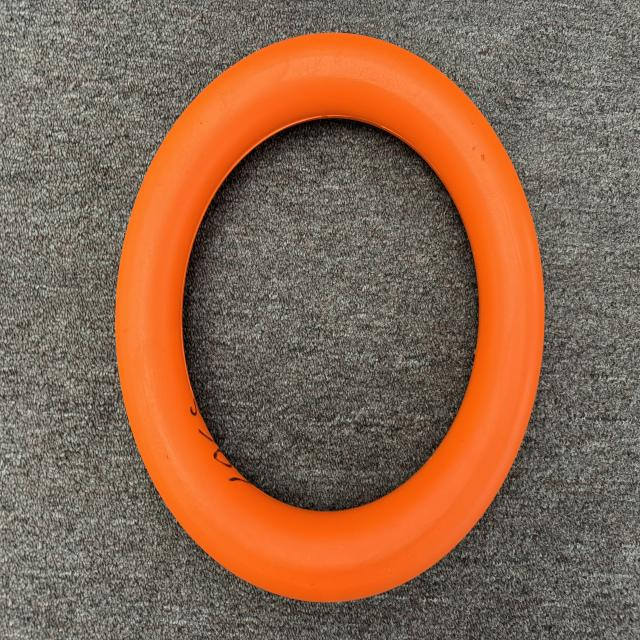note: (110, 19, 550, 606)
